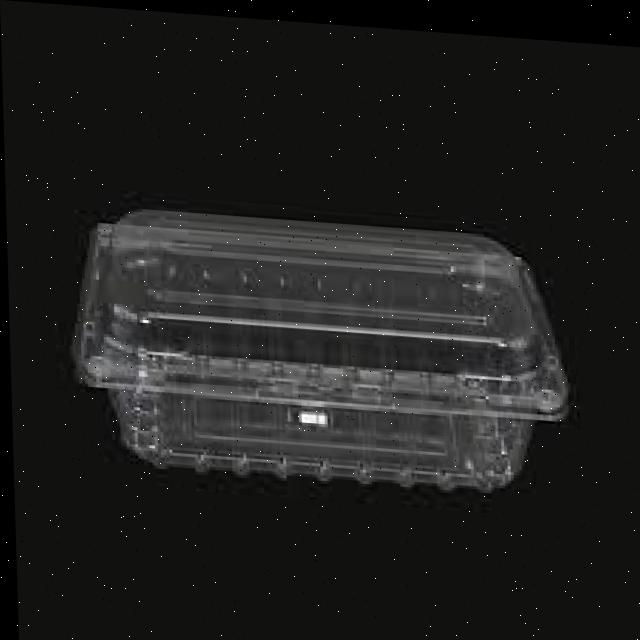disposable: (71, 183, 570, 531)
